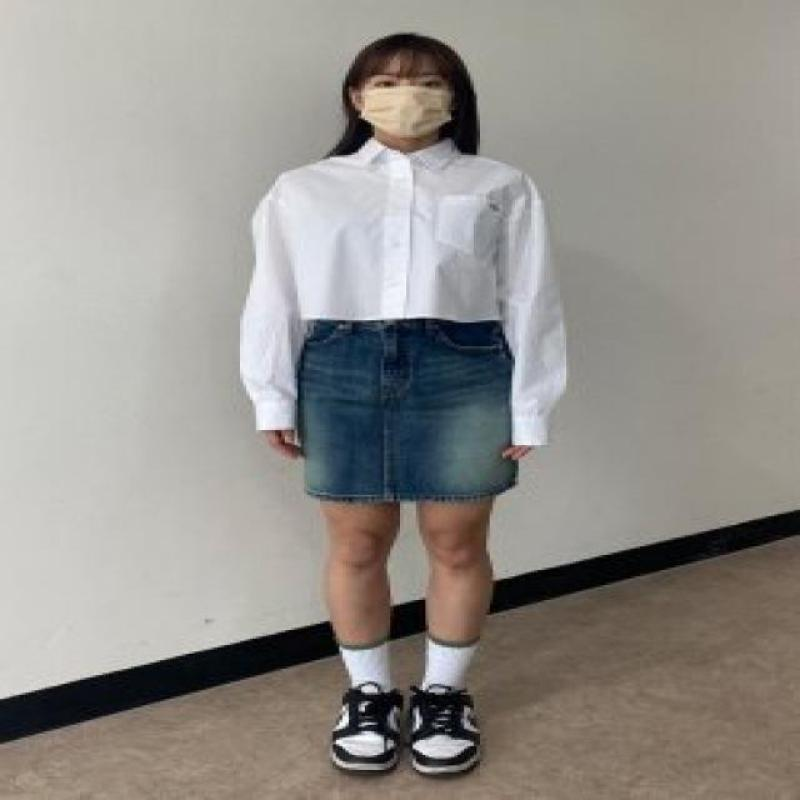long sleeve shirt: (235, 135, 571, 448)
skirt: (294, 315, 522, 503)
